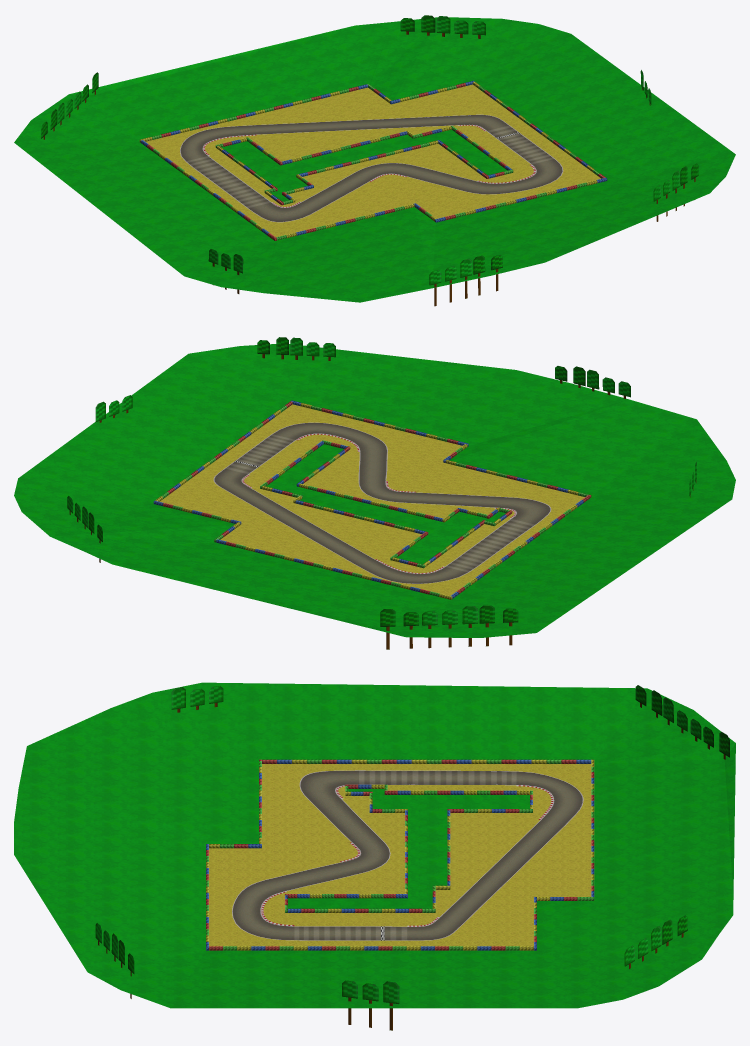
File: main.glb
3 renders of one model, top to bottom at view 1: azimuth 30°, elevation 25°; view 2: azimuth 150°, elevation 25°; view 3: azimuth 270°, elevation 25°, orthographic. The views are drawn at different scales.
Parts seen in each view (by area): view 1: course_model; view 2: course_model; view 3: course_model.
Boxes of the visible parts, bbox=[...] form: course_model: bbox=[14, 15, 735, 306]; course_model: bbox=[14, 337, 735, 649]; course_model: bbox=[14, 682, 735, 1030].
Bounding box in the file's own units: 353 × 25.91 × 331.
8 materials, 8 textured.
